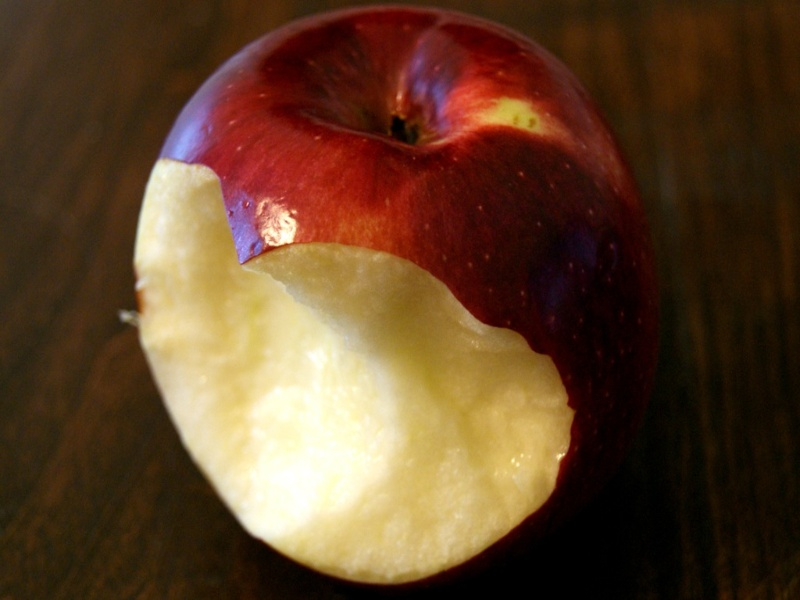apple: (103, 3, 673, 589)
